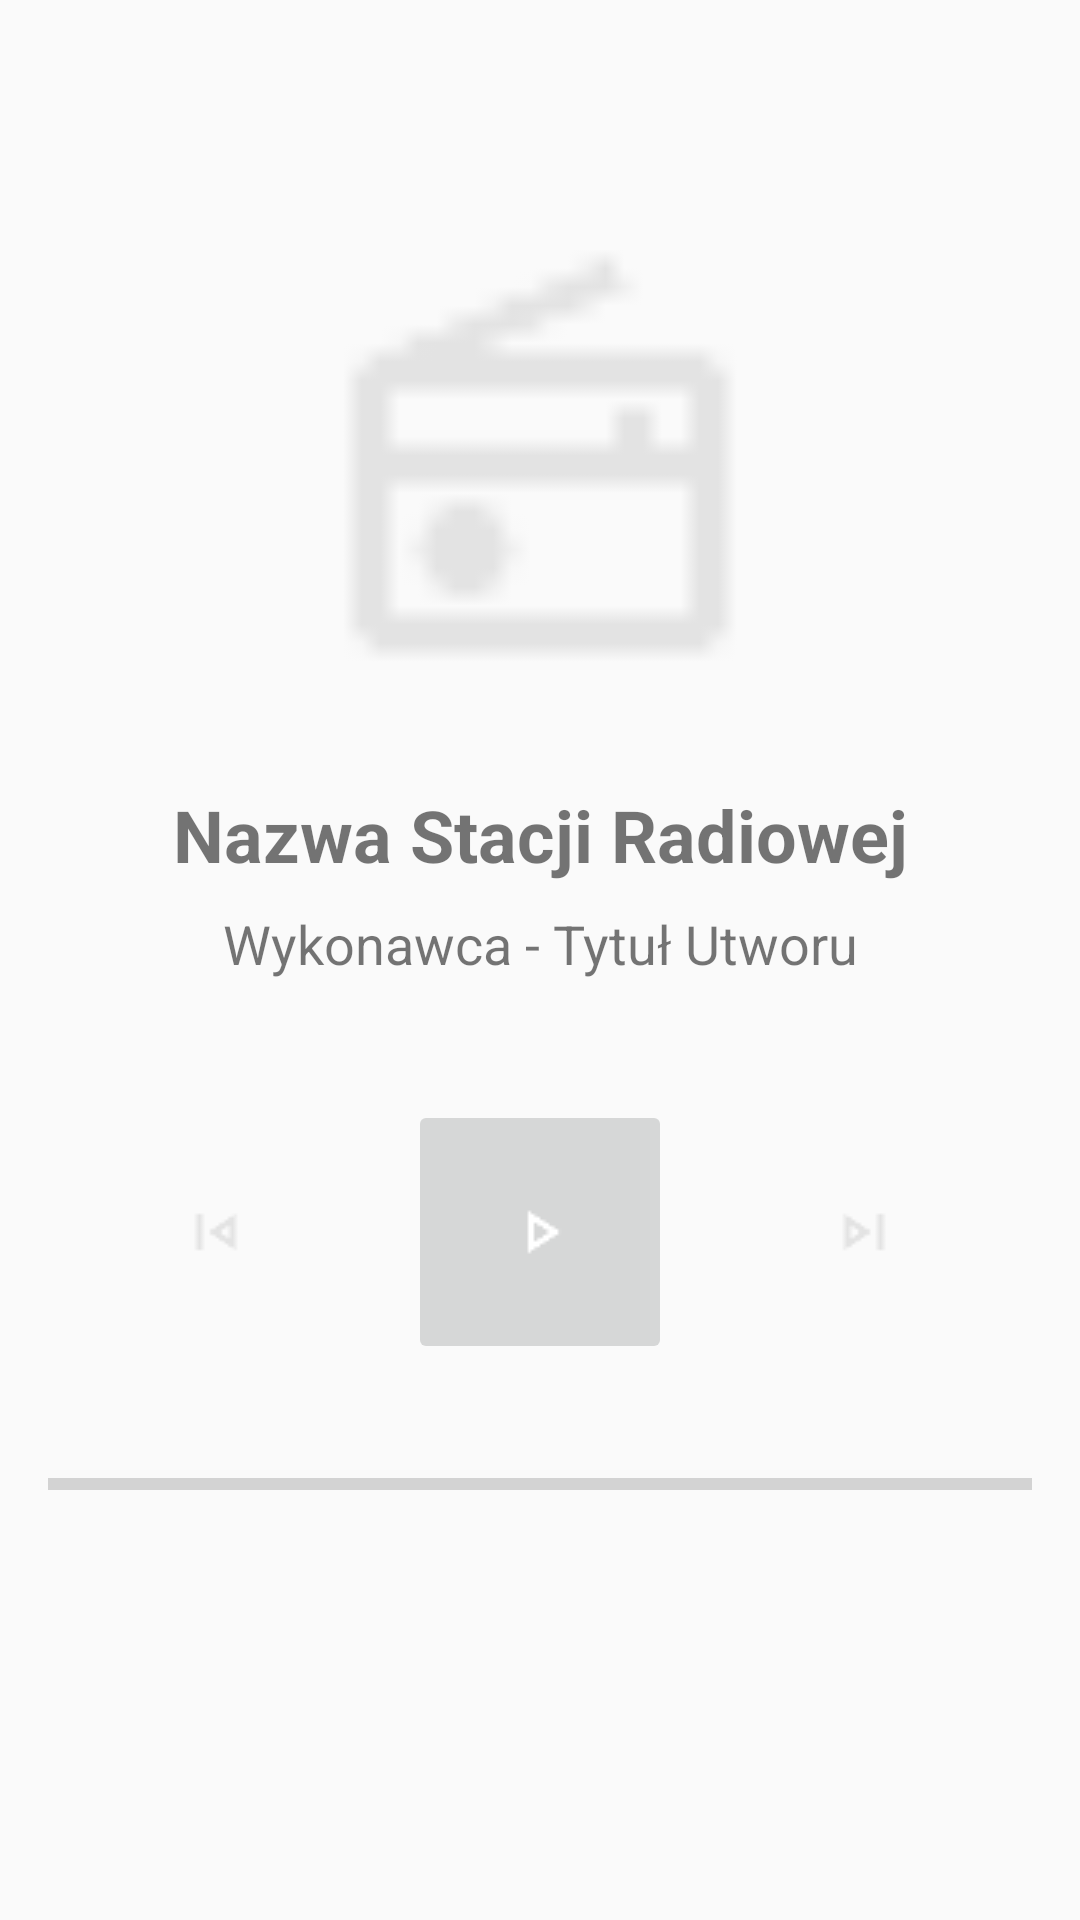

Icon click points for this 1080w x 1920h phone screenshot, format [x,y]:
Odtwarzaj/Pauzuj: [540,1232]
